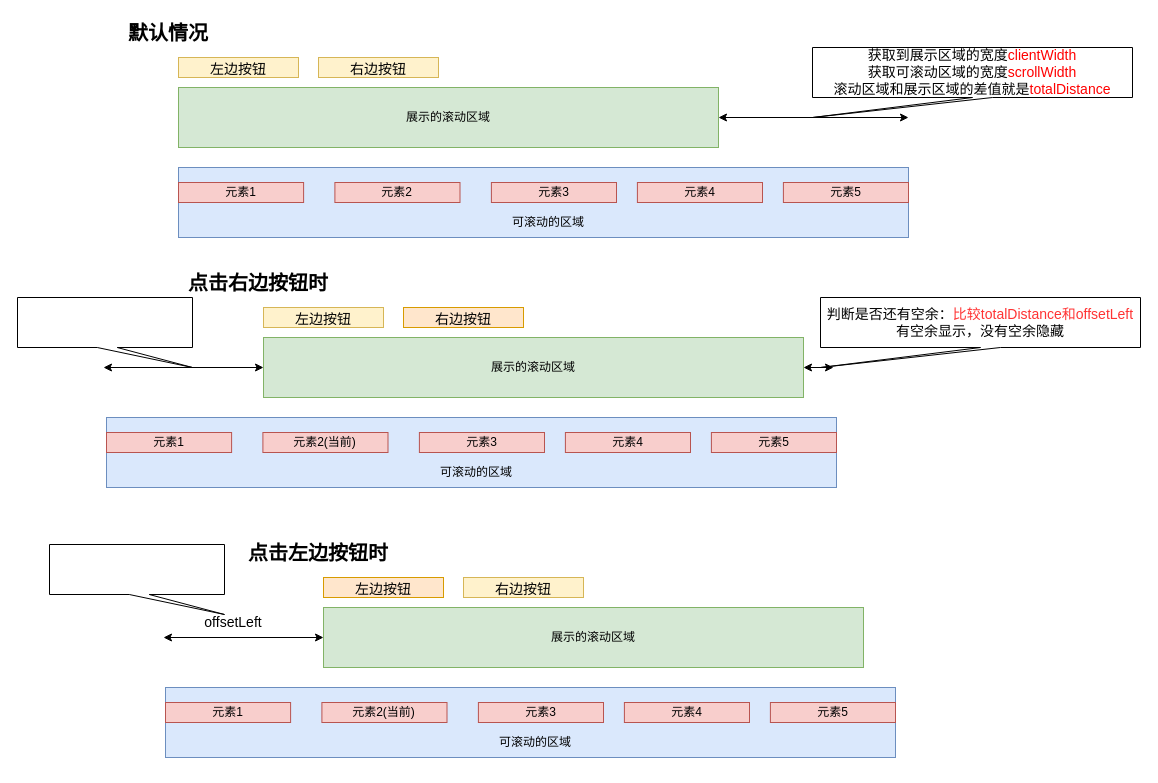
Some shapes in this 1158 by 783 pixel diagram are drawn without their labels. Each missing label, with the centre of its shape:
ref获取当前元素并获取其 offsetLeft: the point at 104,332
判断 offsetLeft 是否大于0 大于0显示，小于0隐藏: the point at 136,579
